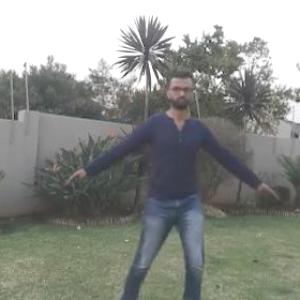land: (94, 91, 234, 263)
